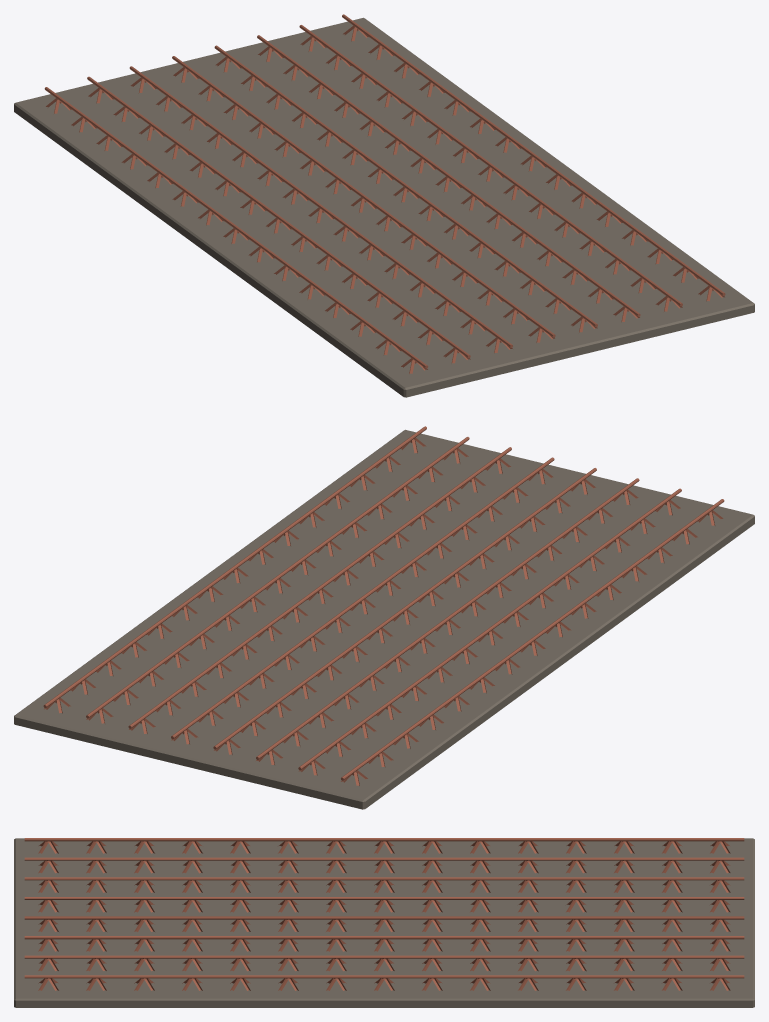
The picture shows the model from 3 angles, top to bottom: view 1: azimuth 30°, elevation 25°; view 2: azimuth 150°, elevation 25°; view 3: azimuth 270°, elevation 25°; orthographic projection. The views are drawn at different scales.
Parts seen in each view (by area): view 1: Decke 3; view 2: Decke 3; view 3: Decke 3.
Boxes of the visible parts, x1,y1,x2,y2 form: Decke 3: [14, 14, 754, 397]; Decke 3: [14, 426, 754, 809]; Decke 3: [14, 838, 754, 1007].
Bounding box in the file's own units: 2.48 × 0.146 × 4.8.
